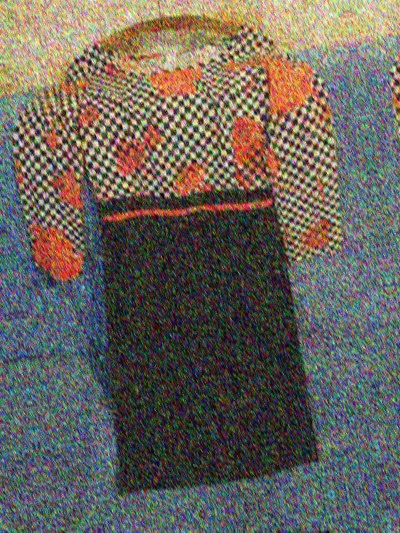Dress: (0, 0, 391, 522), (0, 39, 37, 533), (369, 0, 400, 463), (62, 501, 400, 533)
